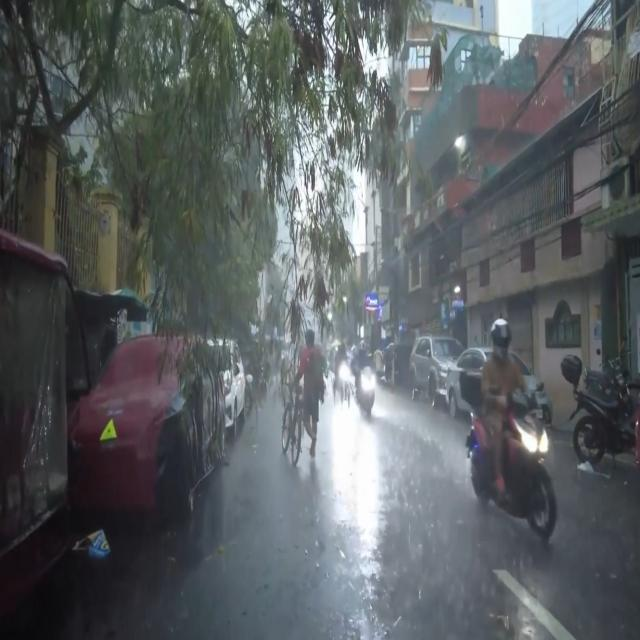full: (490, 317, 512, 358)
